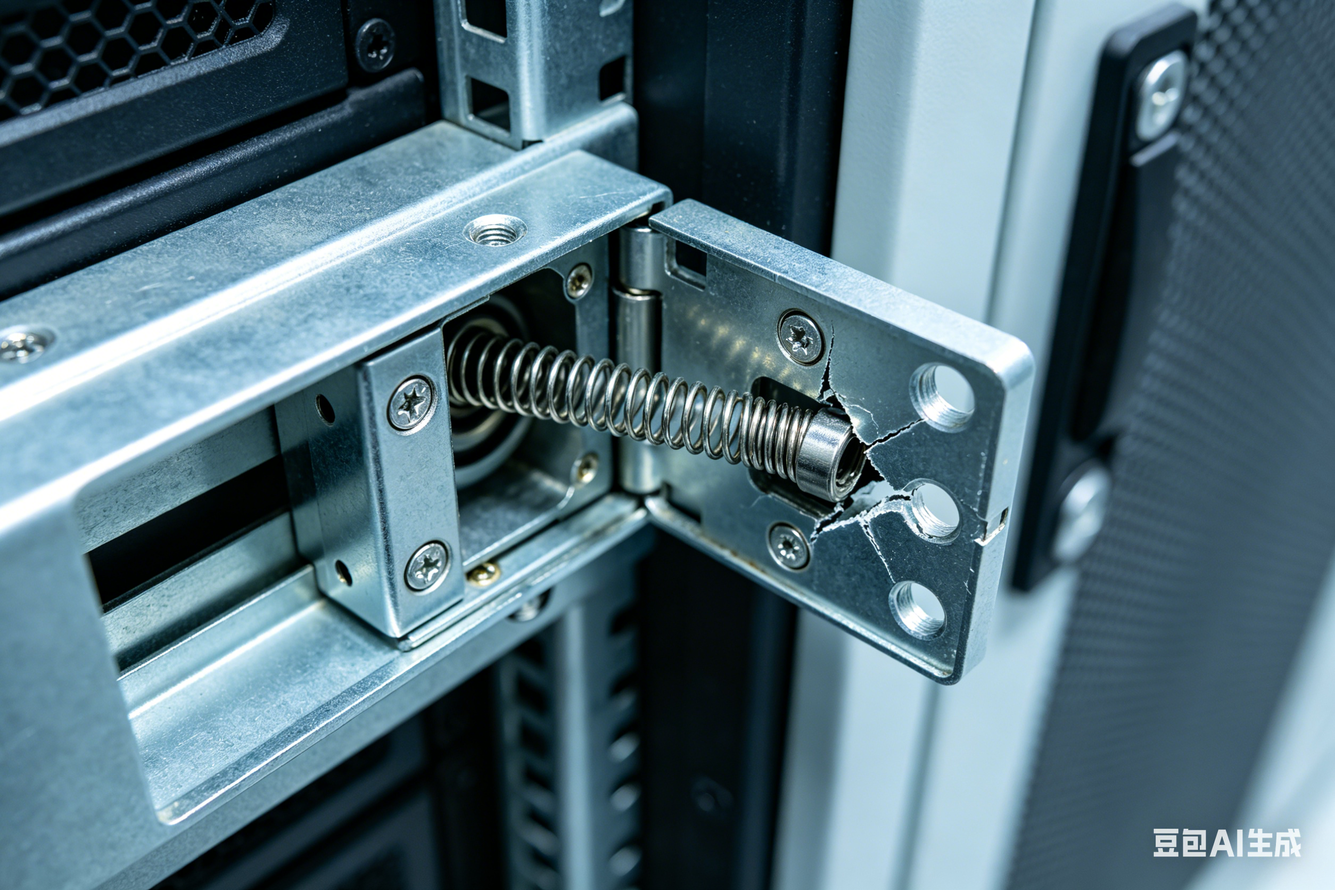BadLock: (740, 364, 926, 550)
